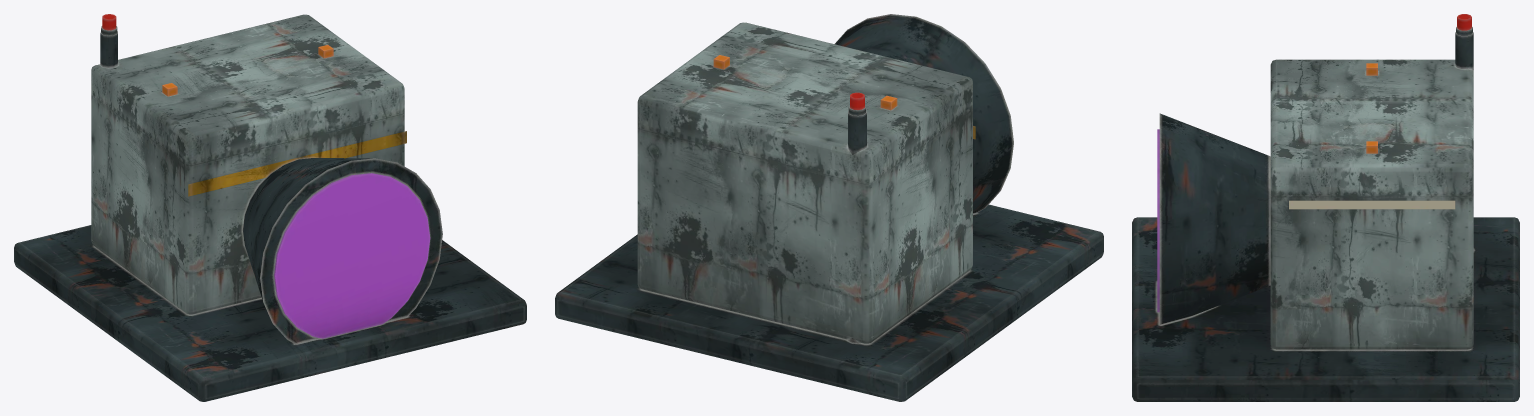
Rendered from fusion_drive.glb.
The picture shows the model from 3 angles, left to right: view 1: azimuth 30°, elevation 25°; view 2: azimuth 150°, elevation 25°; view 3: azimuth 270°, elevation 25°; orthographic projection. The views are drawn at different scales.
Visible parts, largest first — view 1: te_fusion_drive; view 2: te_fusion_drive; view 3: te_fusion_drive.
Boxes of the visible parts, x1,y1,x2,y2 form: te_fusion_drive: (14, 14, 526, 401); te_fusion_drive: (555, 14, 1103, 401); te_fusion_drive: (1132, 14, 1519, 401).
Bounding box in the file's own units: 0.84 × 0.6176 × 0.84.
Materials: 1 (1 with a texture image).
